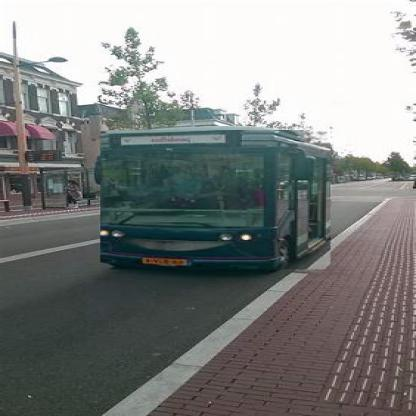bus: (100, 131, 331, 271)
